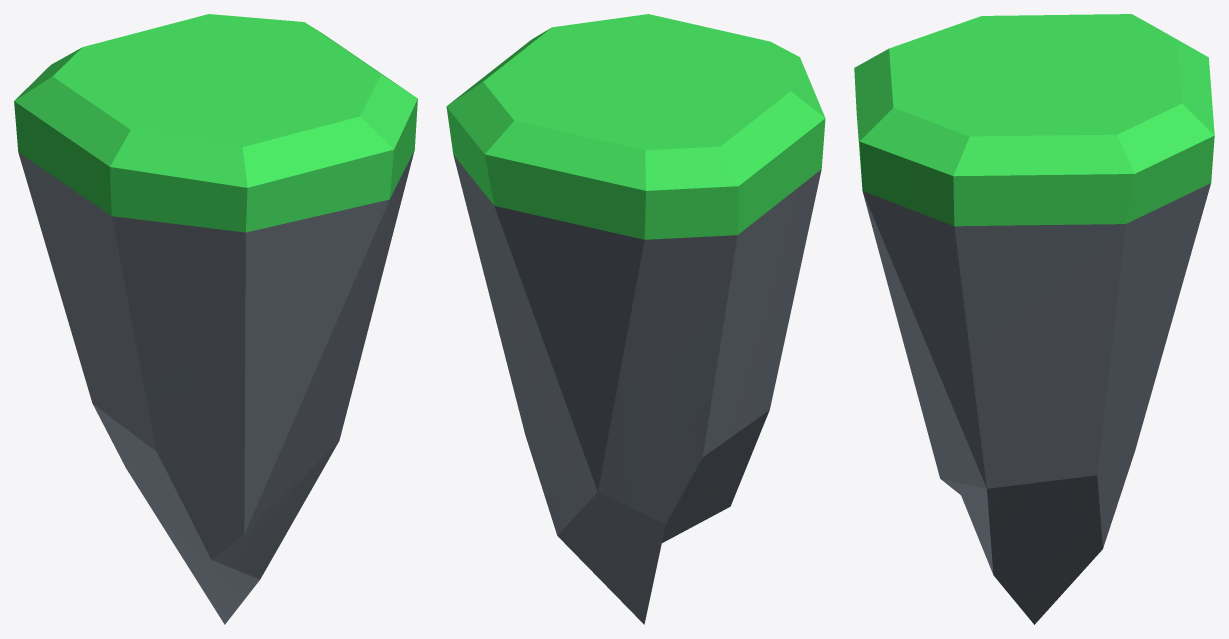
The model's file is testmodelsisland_Island_004__1__001.fbx.
3 renders of one model, left to right at view 1: azimuth 30°, elevation 25°; view 2: azimuth 150°, elevation 25°; view 3: azimuth 270°, elevation 25°, orthographic.
Parts seen in each view (by area): view 1: island_Island_004__1_.001; view 2: island_Island_004__1_.001; view 3: island_Island_004__1_.001.
Part boxes in pixels (x1,y1,x2,y2): island_Island_004__1_.001: (14, 14, 417, 624); island_Island_004__1_.001: (446, 14, 825, 624); island_Island_004__1_.001: (854, 14, 1214, 624).
Bounding box in the file's own units: 618 × 1052 × 625.
